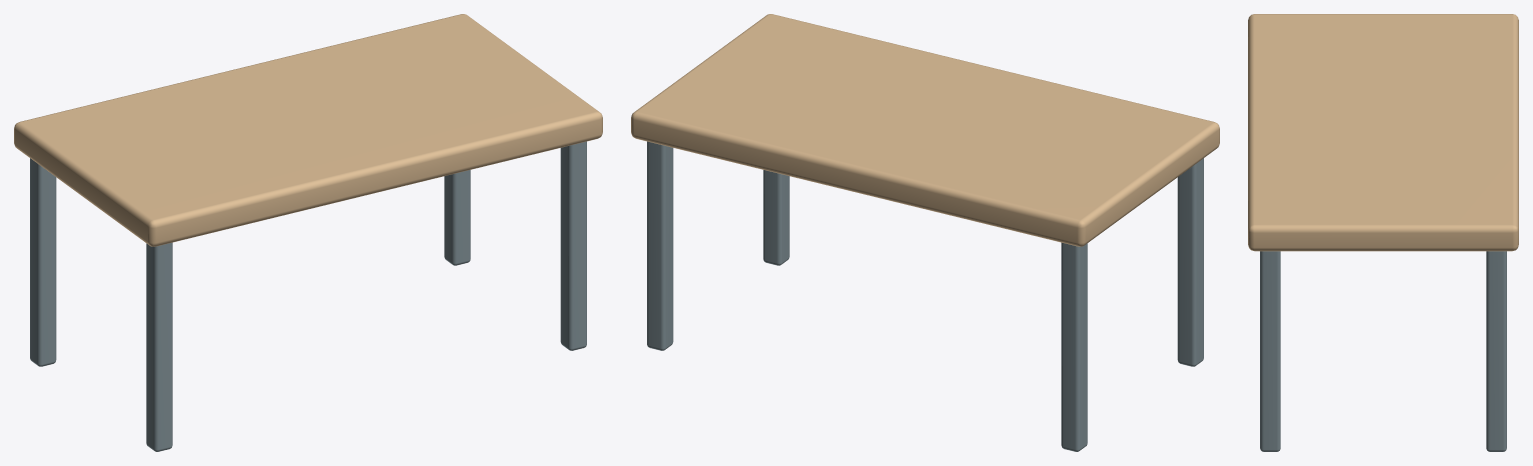
The model's file is alpha_table.glb.
The picture shows the model from 3 angles, left to right: view 1: azimuth 30°, elevation 25°; view 2: azimuth 150°, elevation 25°; view 3: azimuth 270°, elevation 25°; orthographic projection. The views are drawn at different scales.
Visible parts, largest first — view 1: Alpha_lightwood, Alpha_metal; view 2: Alpha_lightwood, Alpha_metal; view 3: Alpha_lightwood, Alpha_metal.
Part boxes in pixels (x1,y1,x2,y2): Alpha_lightwood: (14, 14, 602, 246); Alpha_metal: (30, 141, 586, 451); Alpha_lightwood: (631, 14, 1219, 246); Alpha_metal: (647, 141, 1203, 451); Alpha_lightwood: (1248, 14, 1518, 251); Alpha_metal: (1260, 251, 1506, 451).
Size of the model in its own units: 1.6 by 0.8 by 0.85.
